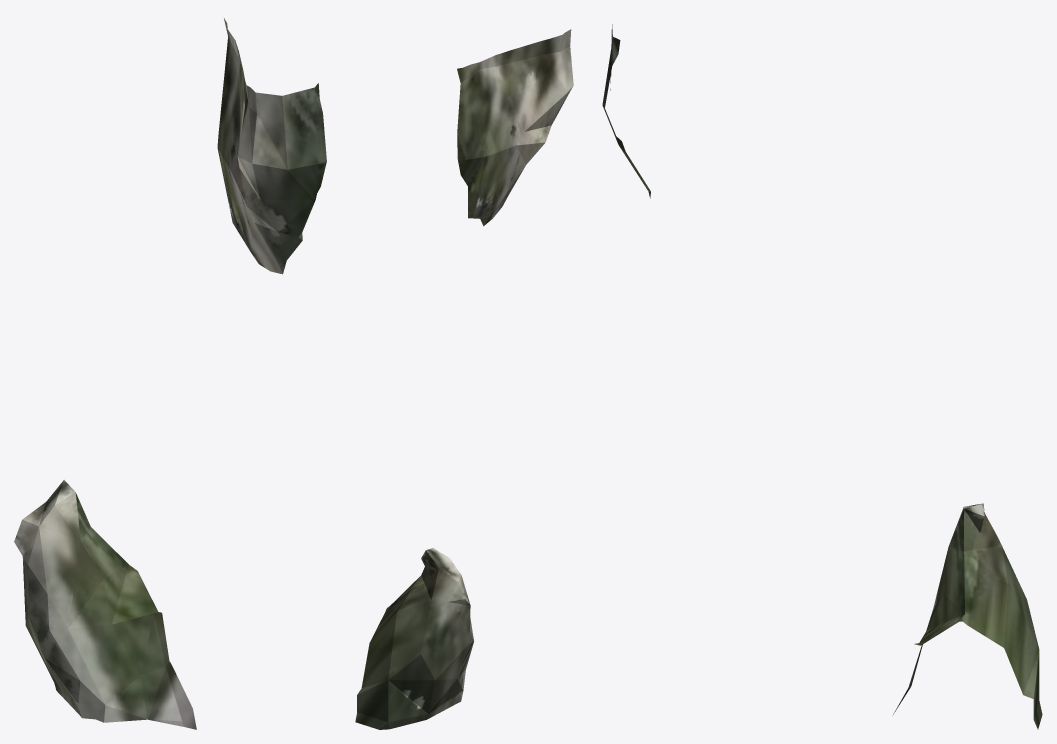
3 views of the same model, side by side, from view 1: azimuth 30°, elevation 25°; view 2: azimuth 150°, elevation 25°; view 3: azimuth 270°, elevation 25° (orthographic). The views are drawn at different scales.
Size of the model in its own units: 0.4641 by 2.95 by 1.71.
Materials: 1 (1 with a texture image).
